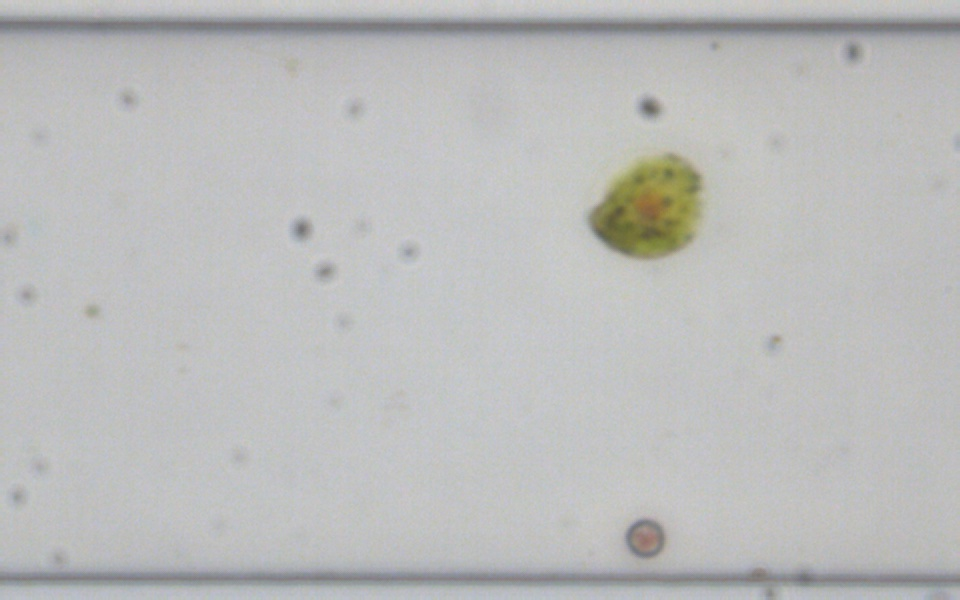Haematococcus: (580, 148, 705, 264)
Porphyridium: (622, 515, 666, 560)
